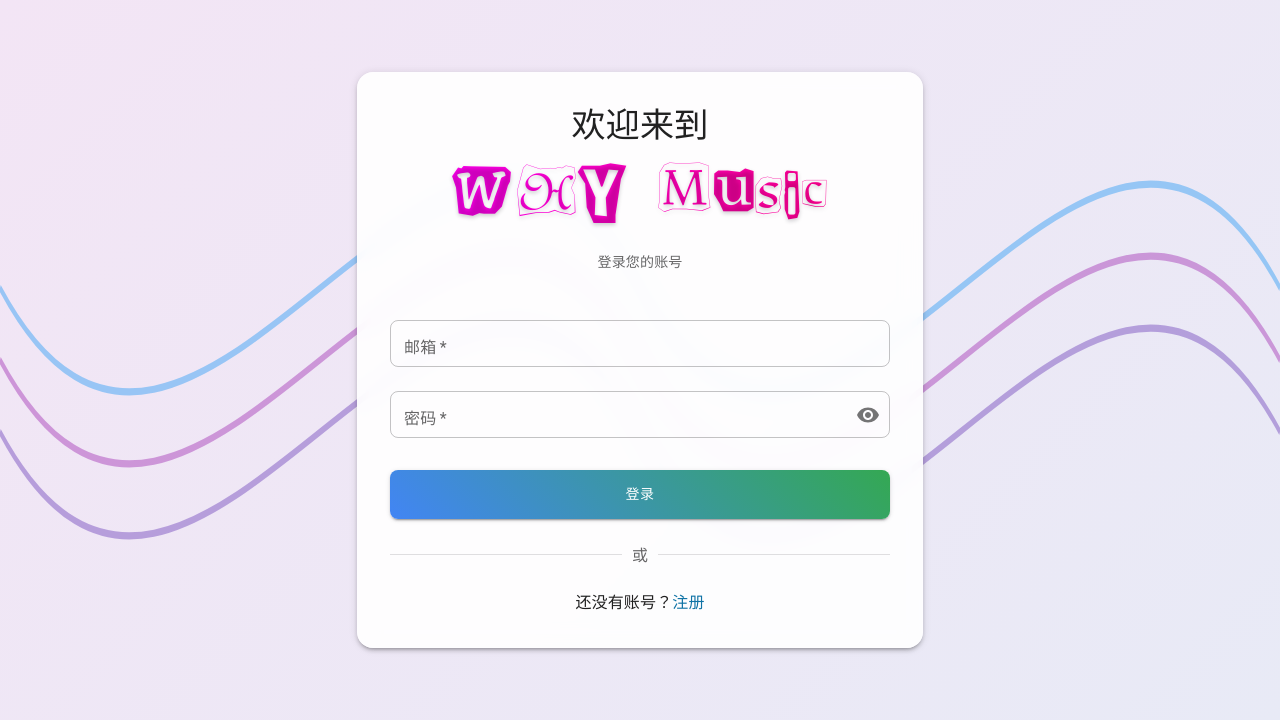
登录页面测试 › 登录成功流程
Type "test@example.com" into the field labelled "邮箱 *" at coordinates (640, 344), box 390,320 -> 890,367
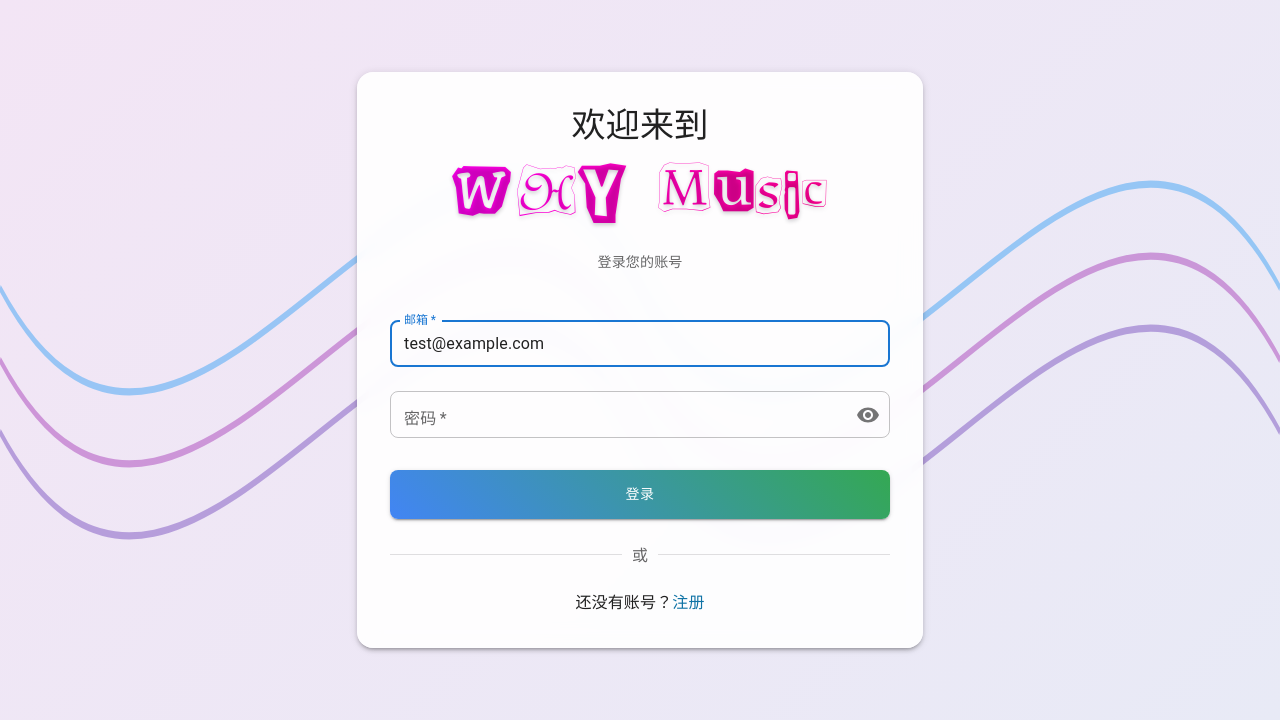
Type "Password123!" into the password field labelled "密码 *" at coordinates (615, 415), box 390,391 -> 840,438
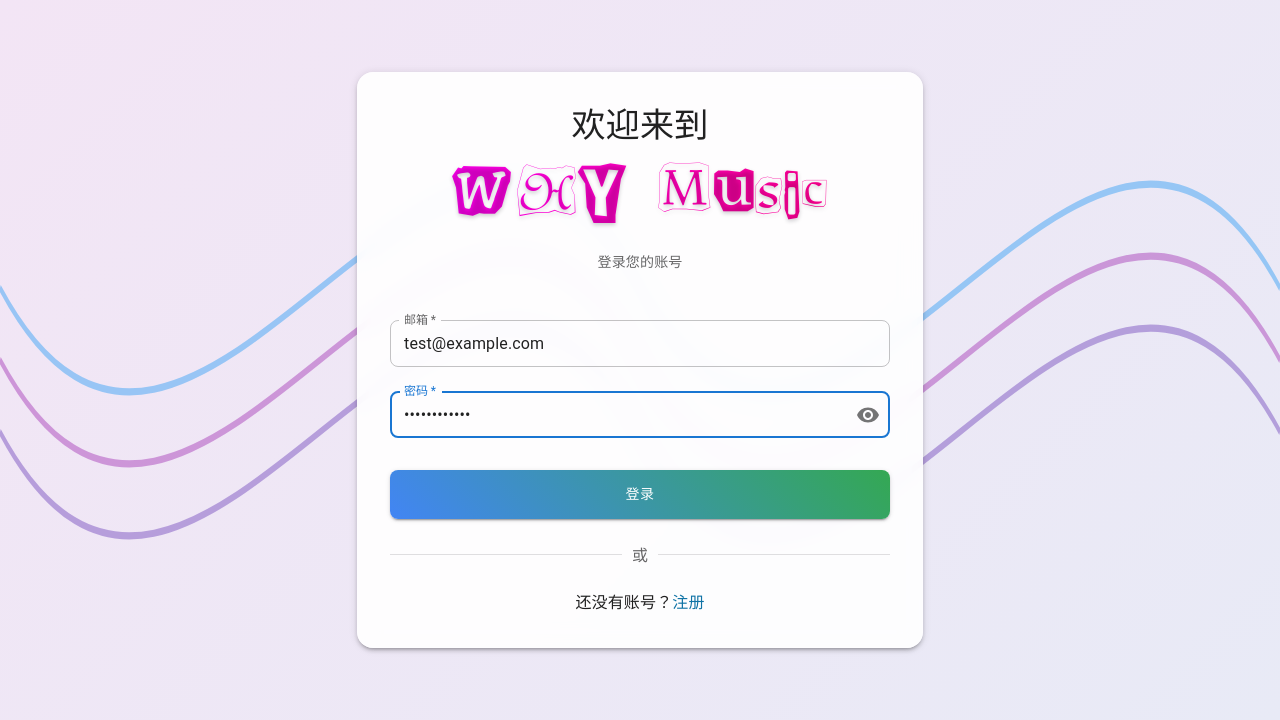
Click the button "登录" at coordinates (640, 494), box 390,470 -> 890,519
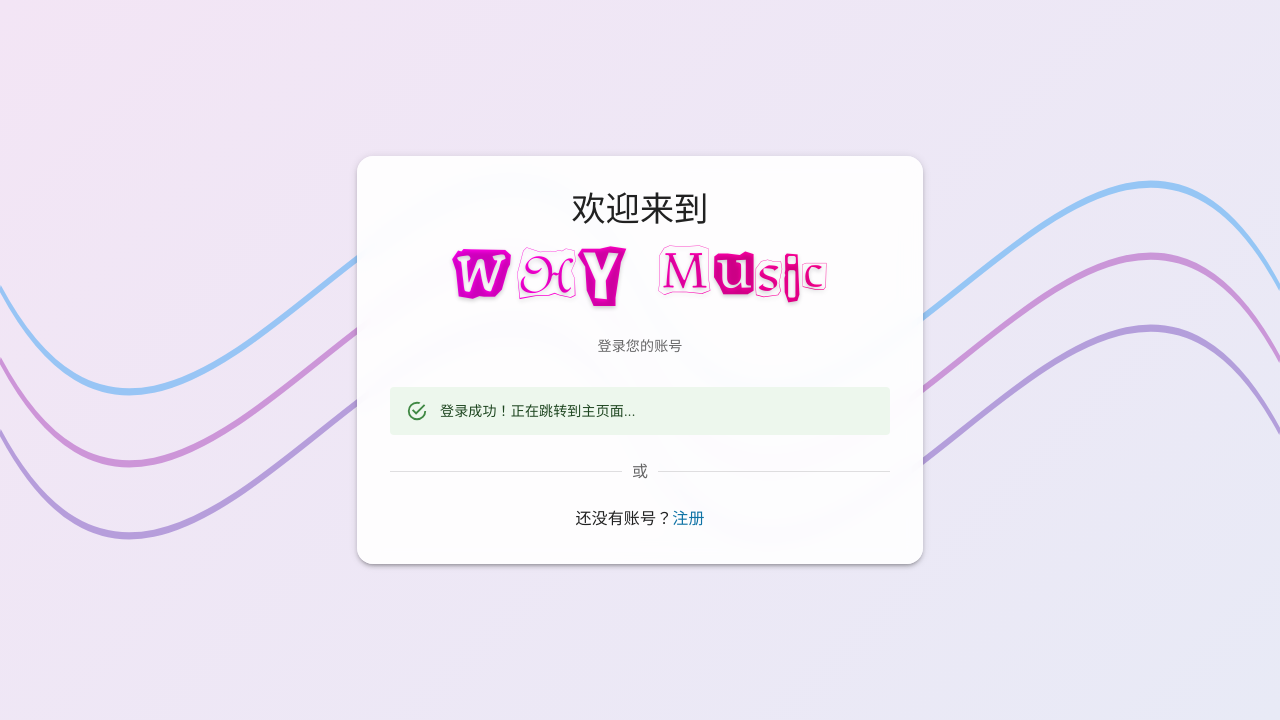
Check: the text "登录成功！正在跳转到主页面..." is shown, box 440,403 -> 636,419
